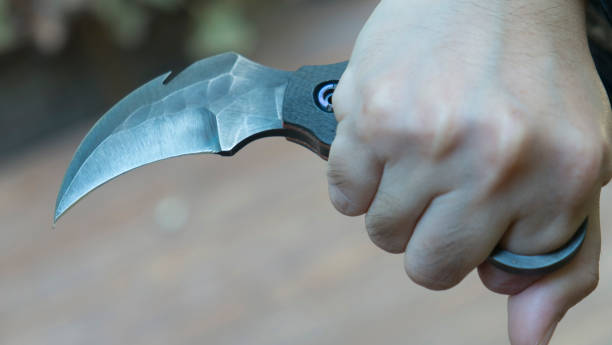knife: (47, 46, 591, 281)
